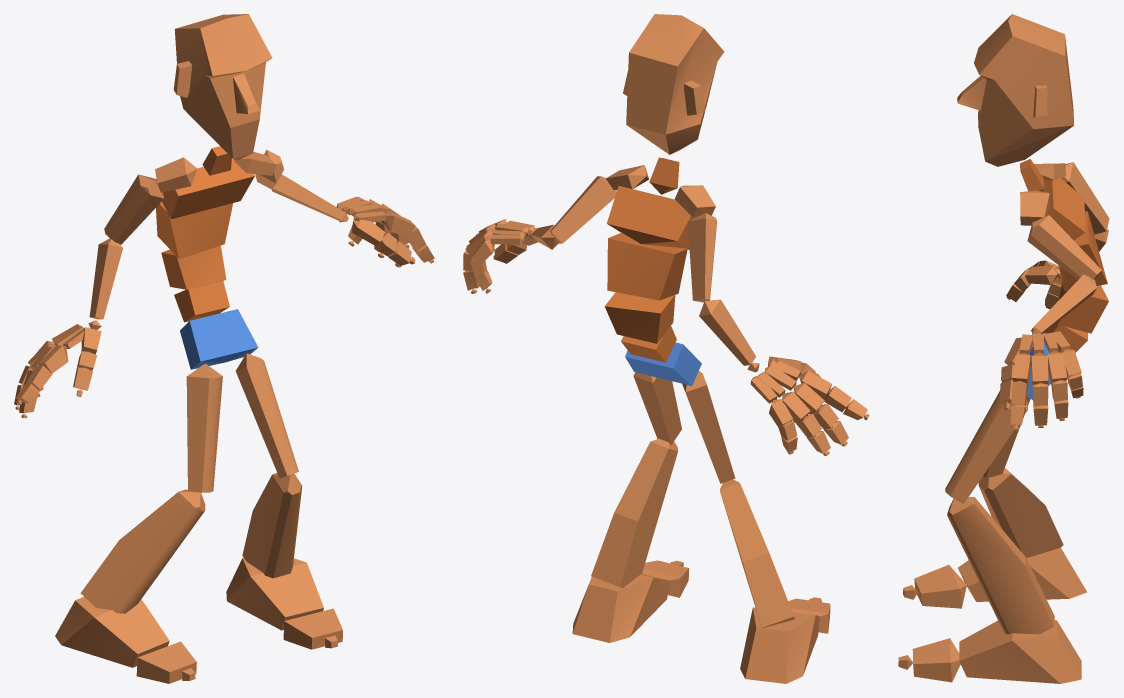
File: prueba153.obj
The picture shows the model from 3 angles, left to right: view 1: azimuth 30°, elevation 25°; view 2: azimuth 150°, elevation 25°; view 3: azimuth 270°, elevation 25°; orthographic projection. The views are drawn at different scales.
Parts seen in each view (by area): view 1: BOPED_Head, BOPED_R_leg, BOPED_R_foot, BOPED_L_leg, BOPED_R_foot01, BOPED_R_legup, BOPED_L_legup, Bone01, Bone04, Bone05, BOPED_R_arm_upper, Bone03 (+7 smaller); view 2: BOPED_Head, BOPED_L_leg, BOPED_R_foot01, BOPED_R_leg, BOPED_R_foot, Bone04, Bone05, Bone03, BOPED_R_legup, BOPED_L_legup, BOPED_R_arm_upper, BOPED_L_arm_upper (+8 smaller); view 3: BOPED_Head, BOPED_L_leg, BOPED_R_foot01, BOPED_R_leg, BOPED_L_legup, BOPED_R_foot, BOPED_L_arm_upper, Bone05, BOPED_R_foot_toe01, BOPED_R_foot_toe04, BOPED_L_arm_fore, Bone03 (+14 smaller).
Boxes of the visible parts, x1,y1,x2,y2 form: BOPED_Head: (173,14,272,159); BOPED_R_leg: (80,489,205,613); BOPED_R_foot: (55,597,169,667); BOPED_L_leg: (242,473,302,578); BOPED_R_foot01: (226,557,323,630); BOPED_R_legup: (186,364,222,492); BOPED_L_legup: (235,353,298,478); Bone01: (180,309,258,369); Bone04: (156,201,232,258); Bone05: (162,159,254,219); BOPED_R_arm_upper: (104,174,164,244); Bone03: (161,245,226,289); BOPED_Head: (623,14,724,154); BOPED_L_leg: (591,438,678,587); BOPED_R_foot01: (572,574,670,642); BOPED_R_leg: (720,479,794,628); BOPED_R_foot: (740,607,819,683); Bone04: (607,233,687,300); Bone05: (607,186,695,249); Bone03: (604,292,675,343); BOPED_R_legup: (682,371,735,483); BOPED_L_legup: (633,372,681,444); BOPED_R_arm_upper: (687,213,716,302); BOPED_L_arm_upper: (549,176,616,243); BOPED_Head: (957,14,1074,166); BOPED_L_leg: (947,497,1054,634); BOPED_R_foot01: (959,620,1081,683); BOPED_R_leg: (978,468,1063,557); BOPED_L_legup: (945,390,1028,503); BOPED_R_foot: (958,548,1086,601); BOPED_L_arm_upper: (1027,215,1101,279); Bone05: (1043,178,1085,240); BOPED_R_foot_toe01: (914,565,966,608); BOPED_R_foot_toe04: (912,638,960,682); BOPED_L_arm_fore: (1031,274,1096,333); Bone03: (1057,283,1108,333).
Size of the model in its own units: 130 by 185 by 56.82.
